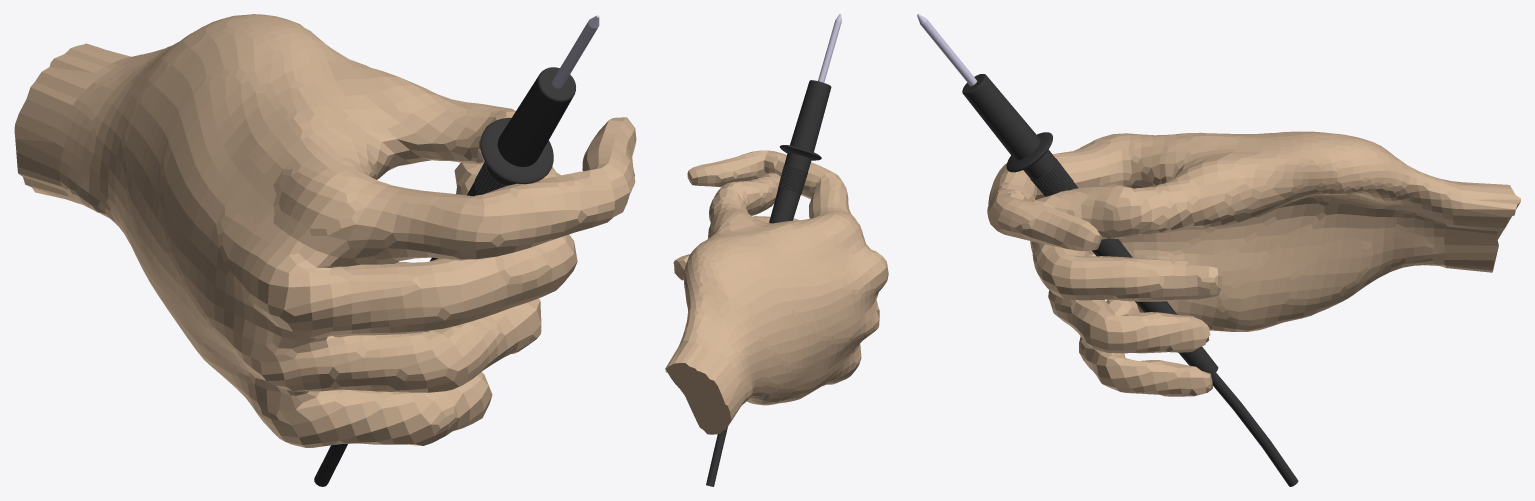
The model's file is hand-with-multimeter-black.fbx.
3 views of the same model, side by side, from view 1: azimuth 30°, elevation 25°; view 2: azimuth 150°, elevation 25°; view 3: azimuth 270°, elevation 25° (orthographic). The views are drawn at different scales.
Visible parts, largest first — view 1: Object03.006, Tube002.001; view 2: Object03.006, Tube002.001; view 3: Object03.006, Tube002.001.
Part boxes in pixels (x1,y1,x2,y2): Object03.006: [14, 14, 636, 447]; Tube002.001: [314, 15, 599, 486]; Object03.006: [665, 150, 888, 434]; Tube002.001: [706, 14, 841, 486]; Object03.006: [987, 131, 1520, 396]; Tube002.001: [917, 14, 1298, 486].
Bounding box in the file's own units: 353 × 606 × 691.
